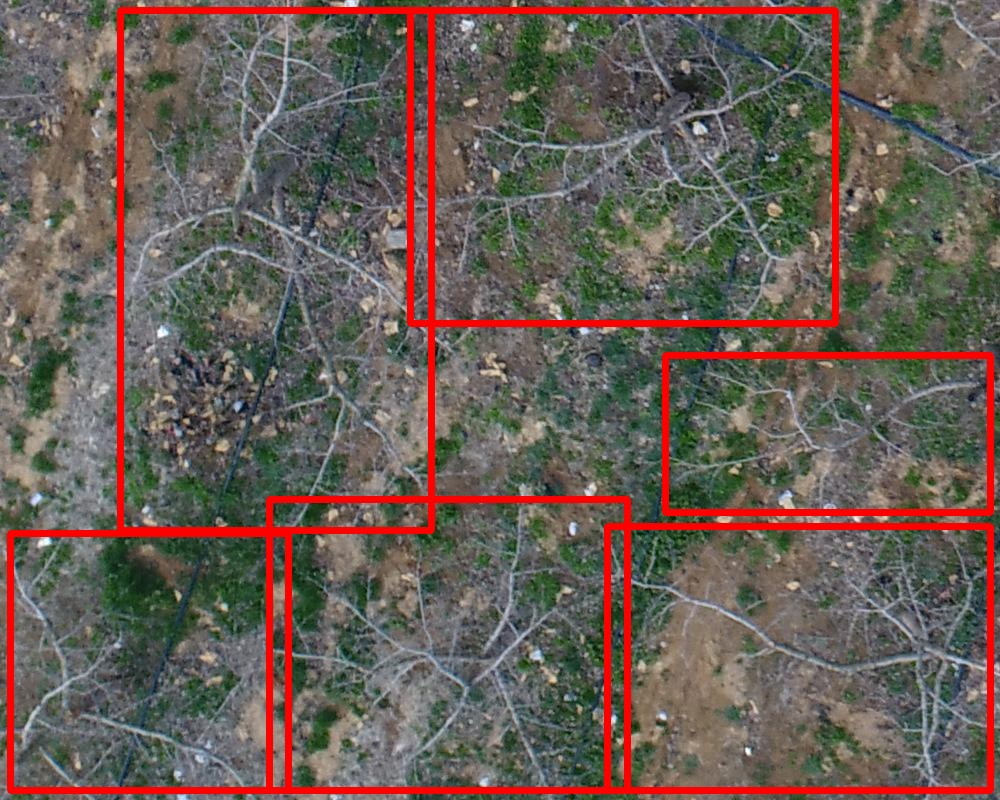apple: (120, 10, 431, 530), (410, 10, 835, 323), (269, 499, 627, 790), (607, 526, 990, 790), (10, 533, 288, 790), (665, 355, 990, 512)
